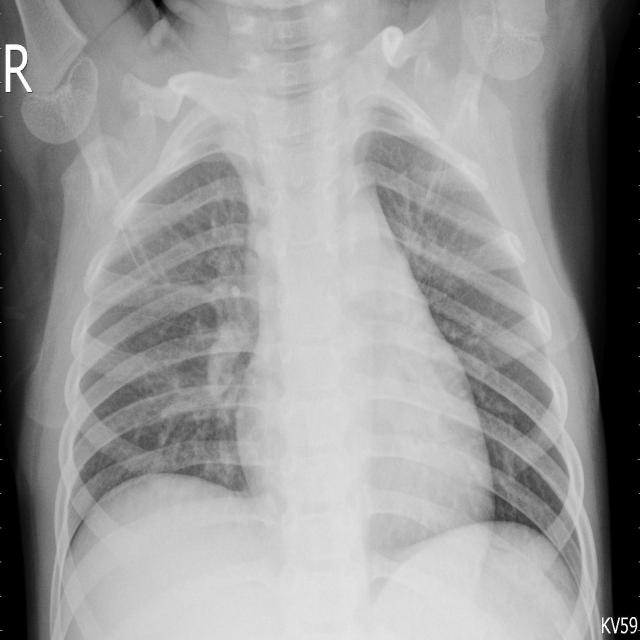no-pneumonia: (357, 105, 590, 583), (60, 153, 260, 566)
